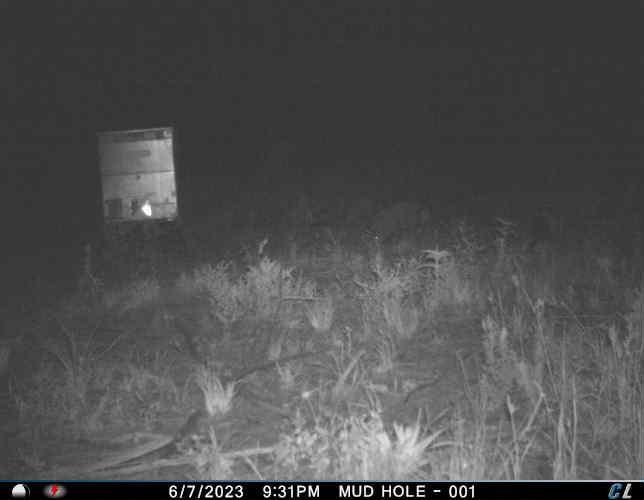Hog: (368, 193, 435, 247)
